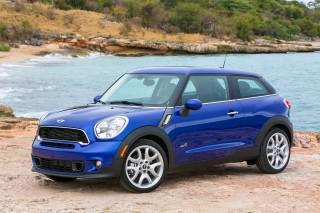mini: (50, 114, 71, 131)
